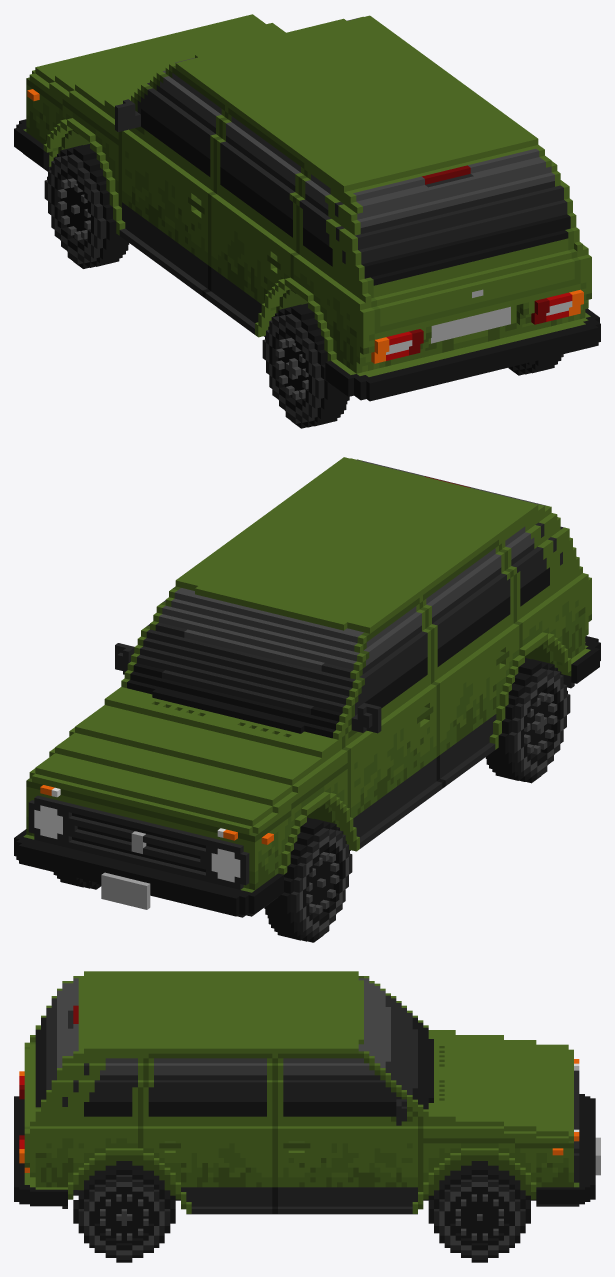
The picture shows the model from 3 angles, top to bottom: view 1: azimuth 30°, elevation 25°; view 2: azimuth 150°, elevation 25°; view 3: azimuth 270°, elevation 25°; orthographic projection. The views are drawn at different scales.
Visible parts, largest first — view 1: VOX; view 2: VOX; view 3: VOX.
Part boxes in pixels (x1,y1,x2,y2): VOX: (14, 14, 600, 428); VOX: (14, 457, 600, 942); VOX: (14, 971, 600, 1262).
Bounding box in the file's own units: 0.046 × 0.042 × 0.109.
